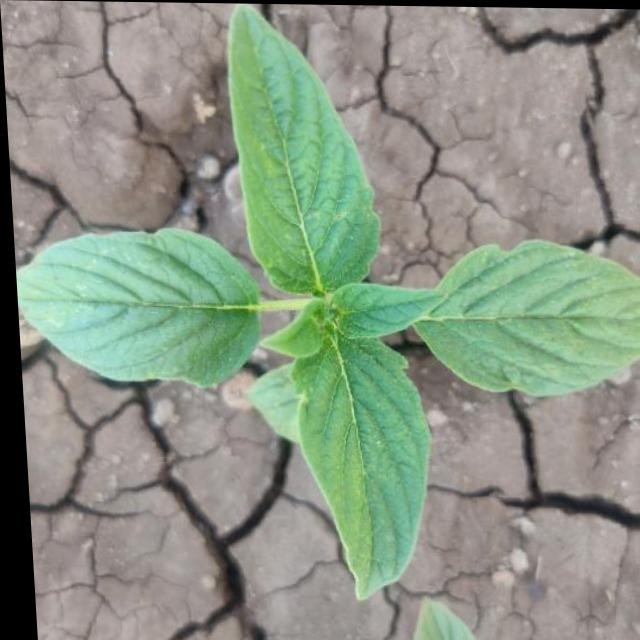crop: (4, 5, 640, 600)
